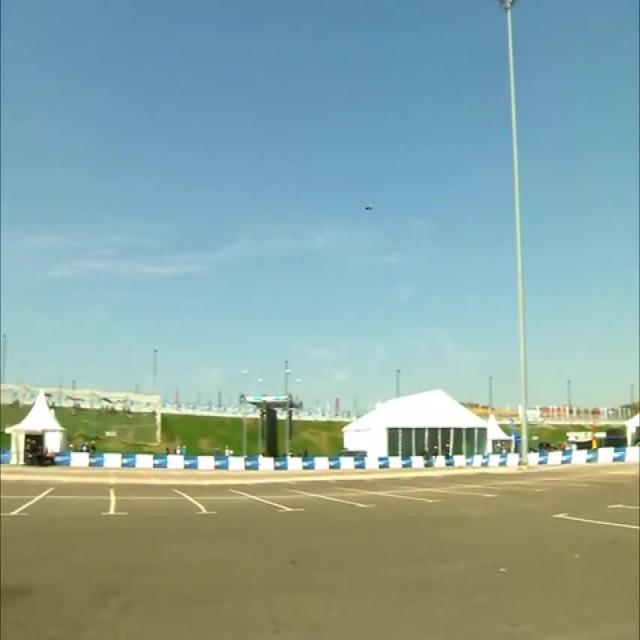iha: (366, 206, 370, 211)
